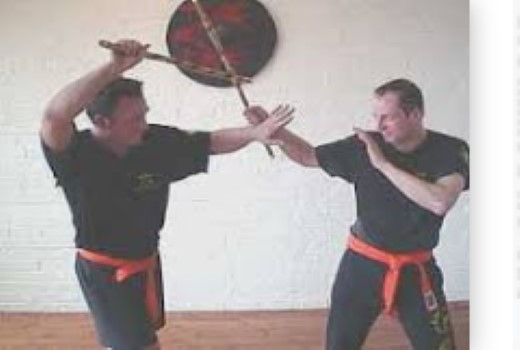baston_e: (186, 2, 252, 103), (120, 36, 224, 93)
baston_v: (261, 143, 280, 161), (91, 32, 105, 52), (242, 72, 259, 87)
